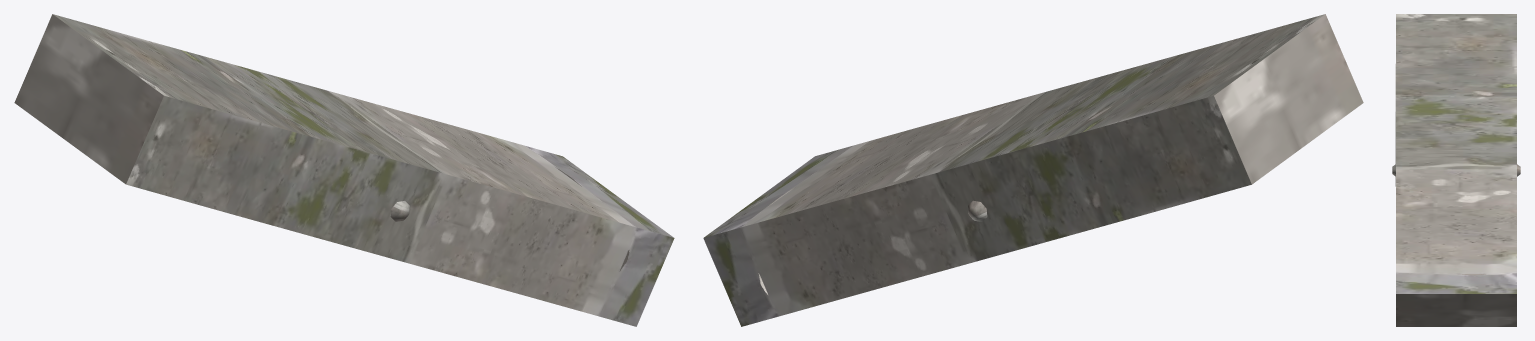
3 renders of one model, left to right at view 1: azimuth 30°, elevation 25°; view 2: azimuth 150°, elevation 25°; view 3: azimuth 270°, elevation 25°, orthographic. The views are drawn at different scales.
Visible parts, largest first — view 1: SM_BB_T3_BeamThick_Medium_Shallow_LOD0; view 2: SM_BB_T3_BeamThick_Medium_Shallow_LOD0; view 3: SM_BB_T3_BeamThick_Medium_Shallow_LOD0.
Boxes of the visible parts, x1=… form: SM_BB_T3_BeamThick_Medium_Shallow_LOD0: x1=14, y1=14, x2=674, y2=326; SM_BB_T3_BeamThick_Medium_Shallow_LOD0: x1=703, y1=14, x2=1363, y2=326; SM_BB_T3_BeamThick_Medium_Shallow_LOD0: x1=1392, y1=14, x2=1520, y2=326.
Size of the model in its own units: 1.61 by 0.973 by 0.6008.
